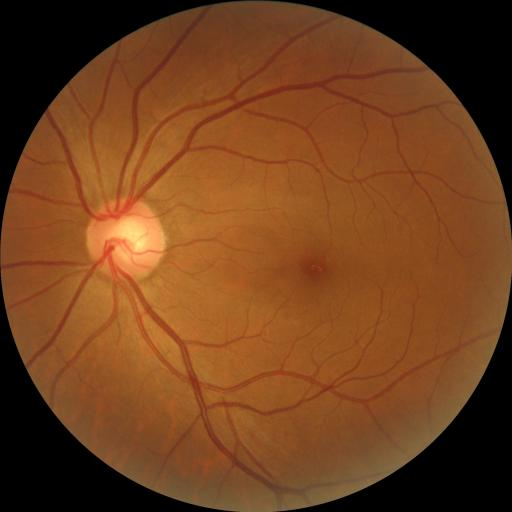Optic Cup: (115, 218, 147, 259)
Optic Disc: (86, 198, 166, 282)
